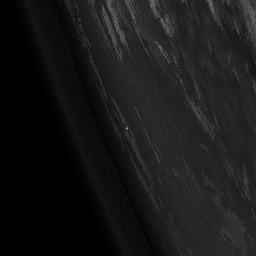Target: (123, 124, 129, 131)
